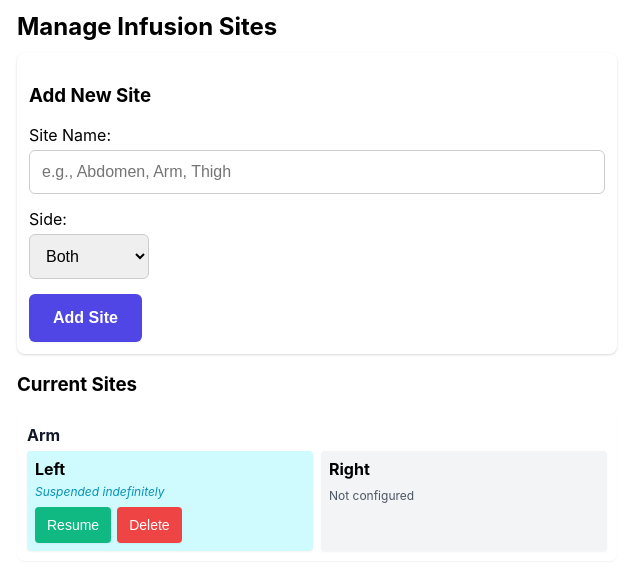
Test: LocationManager - suspension UI › clicking Resume unsuspends the site
Click the button "Resume" at [73, 525], box [35,507,111,543]
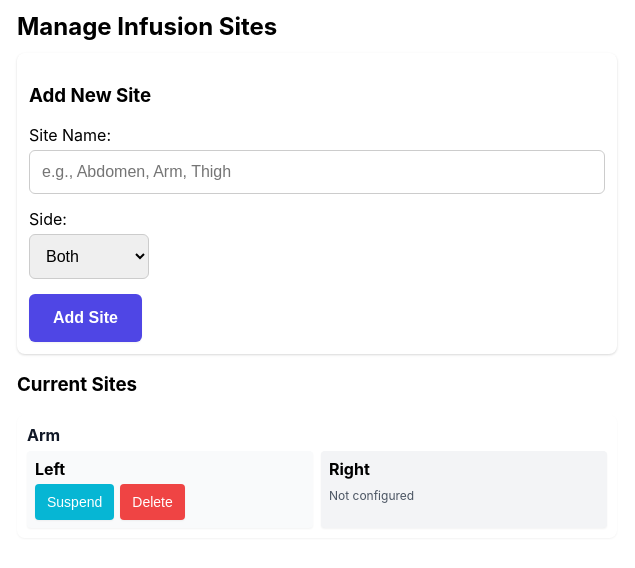
Result: the button "Suspend" is shown at [35,484,114,520]
Result: the button "Resume" is gone
